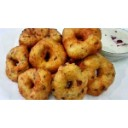vada: (80, 55, 117, 92), (64, 29, 102, 58), (29, 39, 65, 69), (56, 65, 87, 99), (19, 69, 52, 98), (19, 27, 61, 46), (3, 47, 27, 79)
